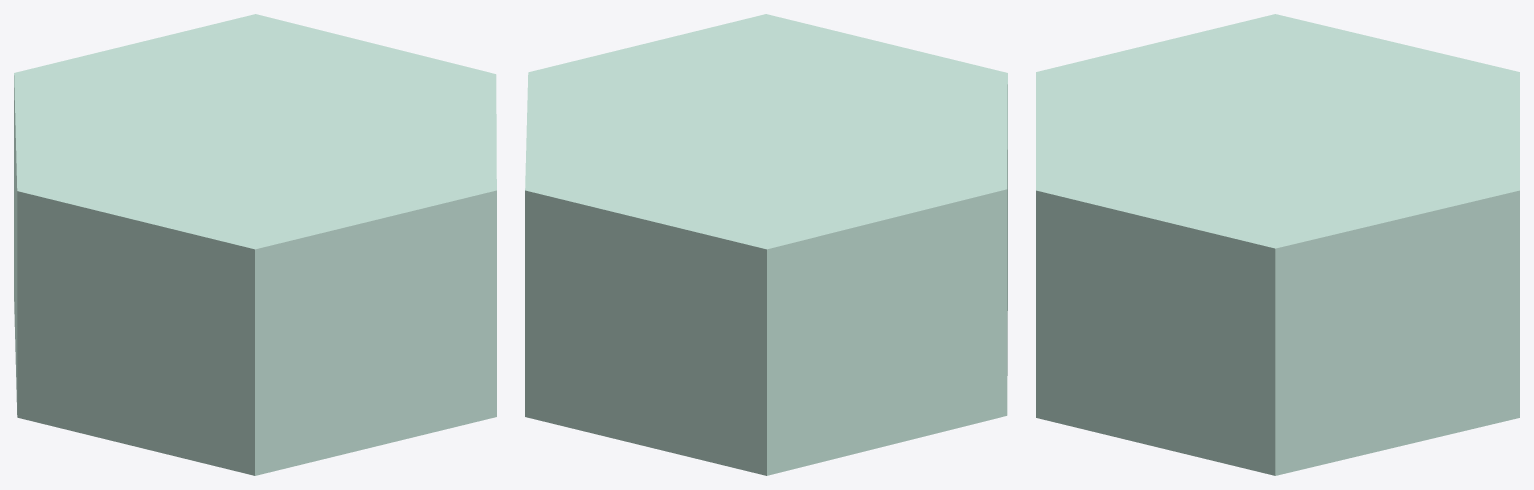
The picture shows the model from 3 angles, left to right: view 1: azimuth 30°, elevation 25°; view 2: azimuth 150°, elevation 25°; view 3: azimuth 270°, elevation 25°; orthographic projection.
Visible parts, largest first — view 1: Renderer Node; view 2: Renderer Node; view 3: Renderer Node.
Boxes of the visible parts, x1,y1,x2,y2 form: Renderer Node: (14,14,496,475); Renderer Node: (525,14,1007,475); Renderer Node: (1036,14,1519,475).
Size of the model in its own units: 0.242 by 0.1094 by 0.2109.
